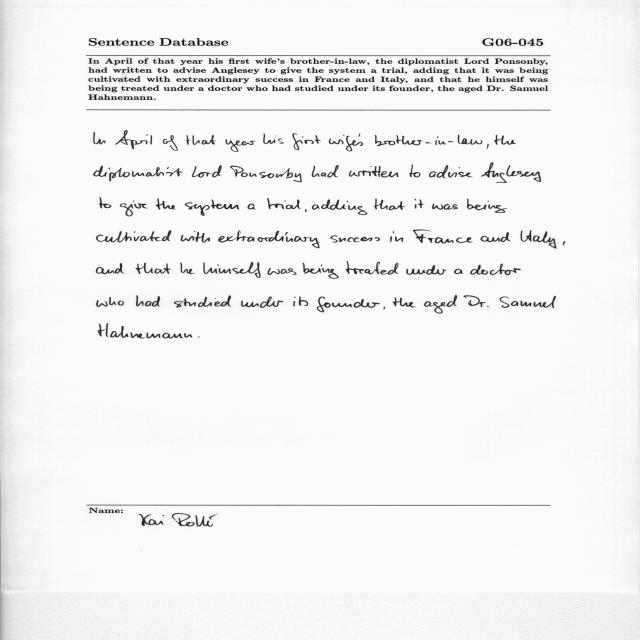word: (218, 231, 320, 248), (98, 324, 192, 339), (94, 166, 183, 181), (481, 163, 541, 183), (329, 134, 395, 152), (230, 166, 302, 182), (317, 297, 380, 313), (97, 230, 172, 243), (203, 262, 261, 278), (185, 199, 239, 216), (396, 135, 483, 145), (312, 200, 368, 215), (413, 230, 472, 243), (115, 131, 152, 150), (346, 262, 399, 275), (174, 296, 231, 308), (500, 296, 556, 308), (521, 231, 557, 249), (467, 198, 508, 213), (424, 296, 457, 314), (302, 263, 339, 279), (429, 165, 473, 178), (470, 264, 521, 275), (349, 166, 399, 177), (241, 296, 283, 308), (292, 134, 321, 151), (120, 201, 148, 217), (406, 265, 447, 275), (225, 139, 256, 152), (330, 235, 380, 243), (192, 165, 222, 178), (136, 263, 171, 274), (267, 198, 300, 209), (374, 199, 405, 210), (181, 231, 210, 242), (96, 263, 125, 274), (463, 296, 489, 308), (480, 232, 511, 242), (186, 135, 216, 145), (97, 297, 124, 307), (136, 296, 160, 307), (393, 297, 416, 308), (163, 135, 178, 151), (321, 165, 339, 178), (494, 135, 516, 145), (156, 199, 176, 210), (263, 134, 284, 144), (268, 268, 297, 275), (180, 263, 195, 274), (432, 204, 458, 210), (294, 297, 309, 307), (94, 132, 106, 144), (410, 165, 421, 178), (390, 231, 403, 242), (100, 198, 112, 208), (415, 199, 425, 209), (312, 166, 319, 177), (247, 204, 256, 210), (454, 269, 463, 274), (487, 144, 489, 149), (563, 241, 565, 246), (305, 209, 307, 212), (384, 307, 386, 309), (198, 337, 200, 338)
